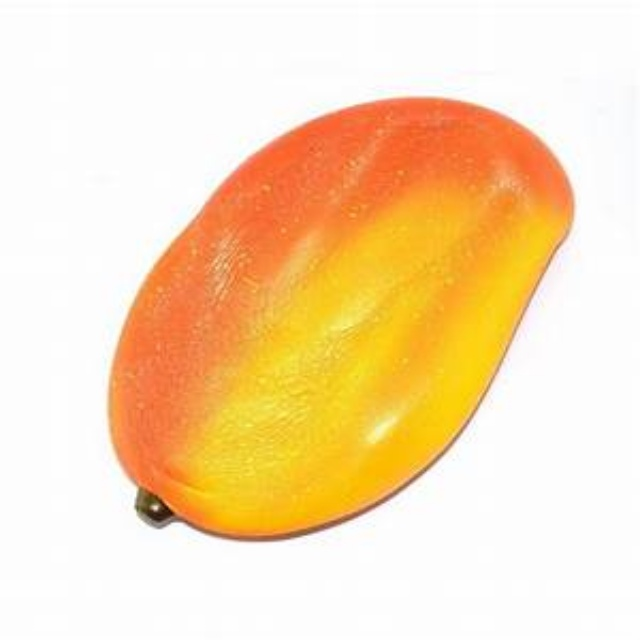mango: (109, 98, 572, 543)
